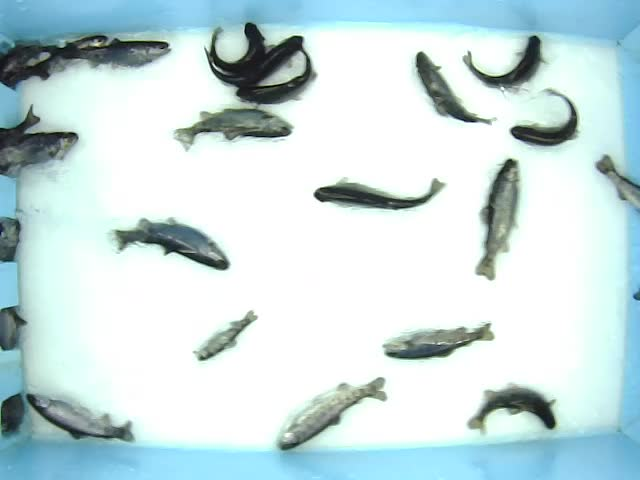fish: (274, 371, 393, 454), (104, 214, 233, 273), (415, 50, 499, 128), (24, 390, 139, 445), (474, 157, 522, 281), (171, 107, 296, 153), (461, 34, 552, 95), (203, 34, 305, 88), (234, 45, 319, 108), (466, 382, 559, 438), (311, 176, 448, 213), (380, 321, 496, 362), (509, 87, 580, 148), (191, 308, 259, 364), (64, 38, 172, 72), (209, 21, 268, 75)
